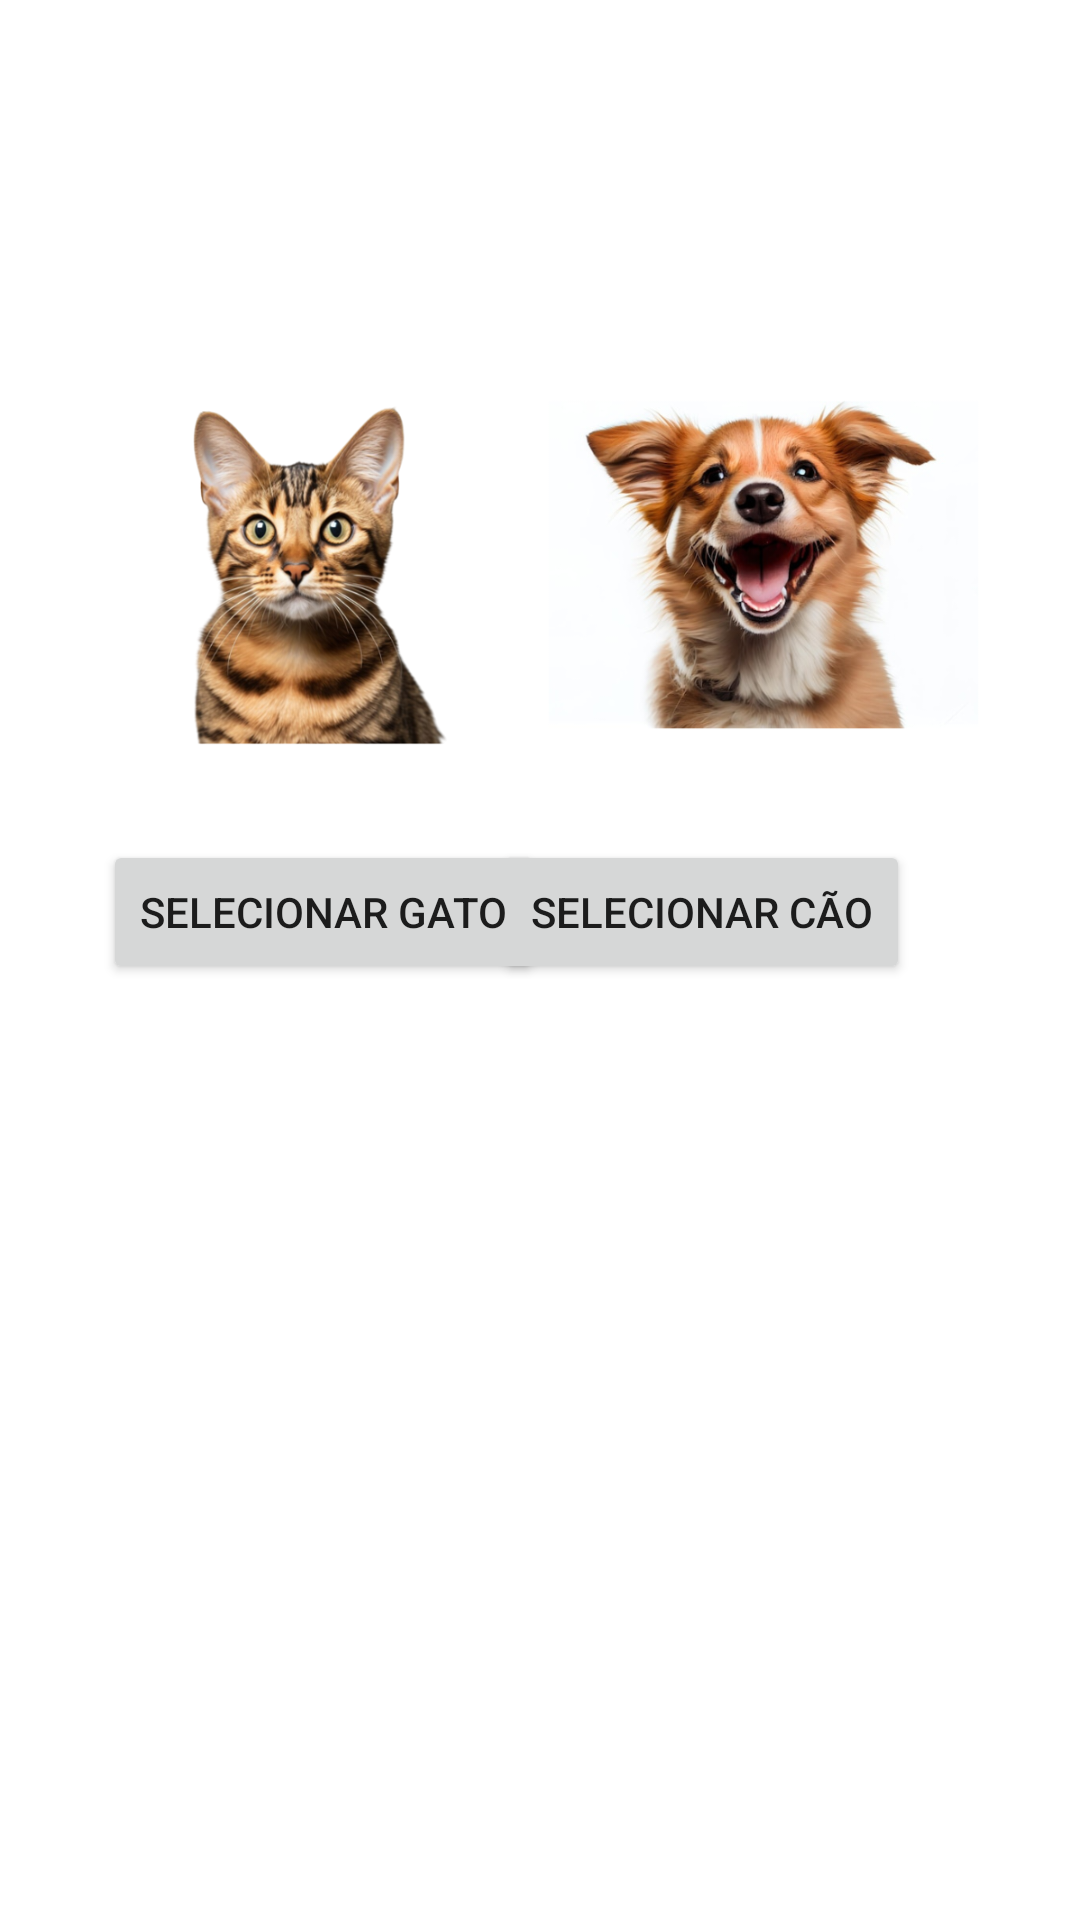

Locate icon controls on the screen. Image size 1080w x 1920h, boxes as (x1, y1, x2, y2).
cao: (586, 403, 936, 729)
